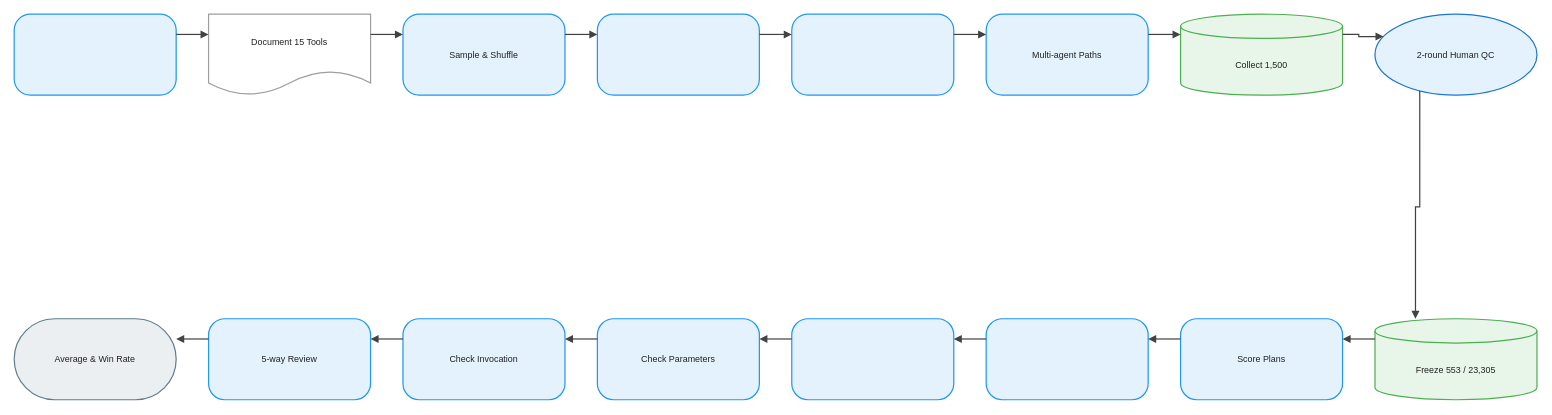
Some shapes in this 1552 by 415 pixel diagram are drawn without their labels. Each missing label, with the centre of its shape:
Check Retrieval: point 872,359
GPT-3.5 Queries: point 678,54
GPT-4 Refine: point 872,54
Score Reasoning: point 1066,359
Set 6 Abilities: point 94,54
